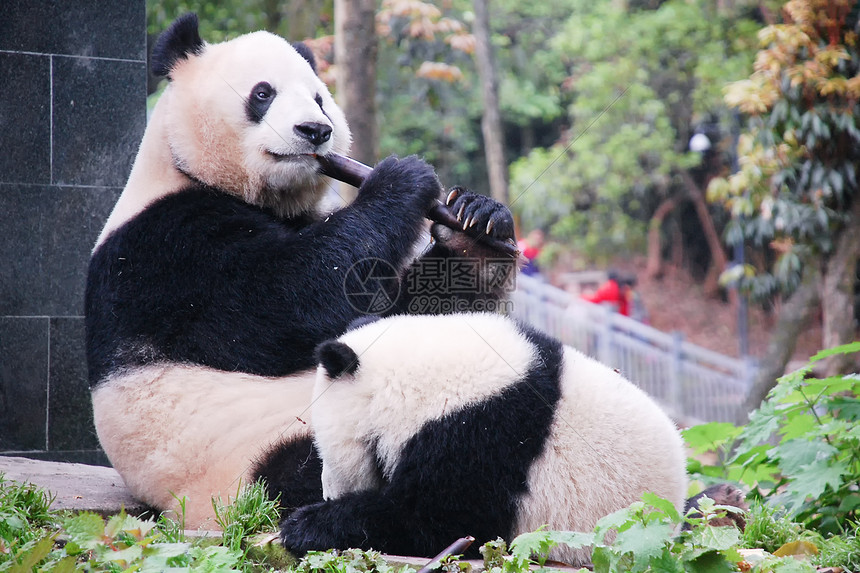panda: (88, 15, 492, 550), (283, 285, 701, 553)
